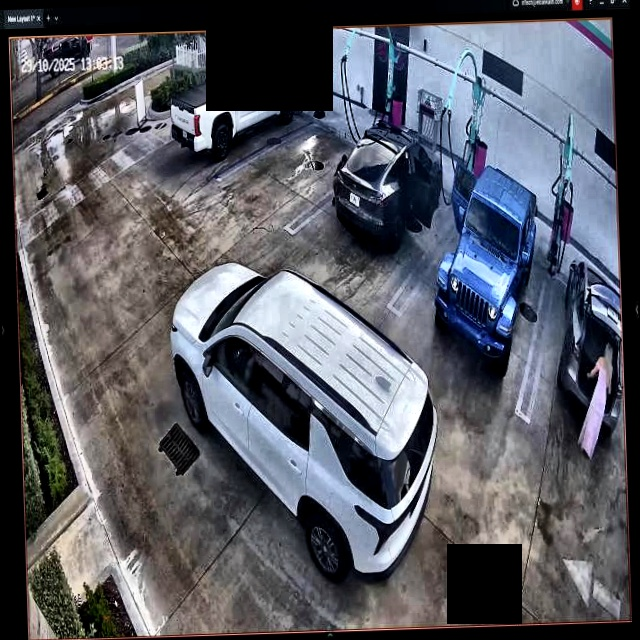Car: (168, 257, 443, 587), (431, 159, 540, 372), (170, 52, 300, 162), (333, 121, 444, 245)
